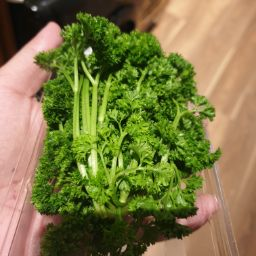Parsley: (22, 9, 161, 209), (105, 26, 216, 221), (45, 13, 202, 112), (35, 56, 212, 142)
